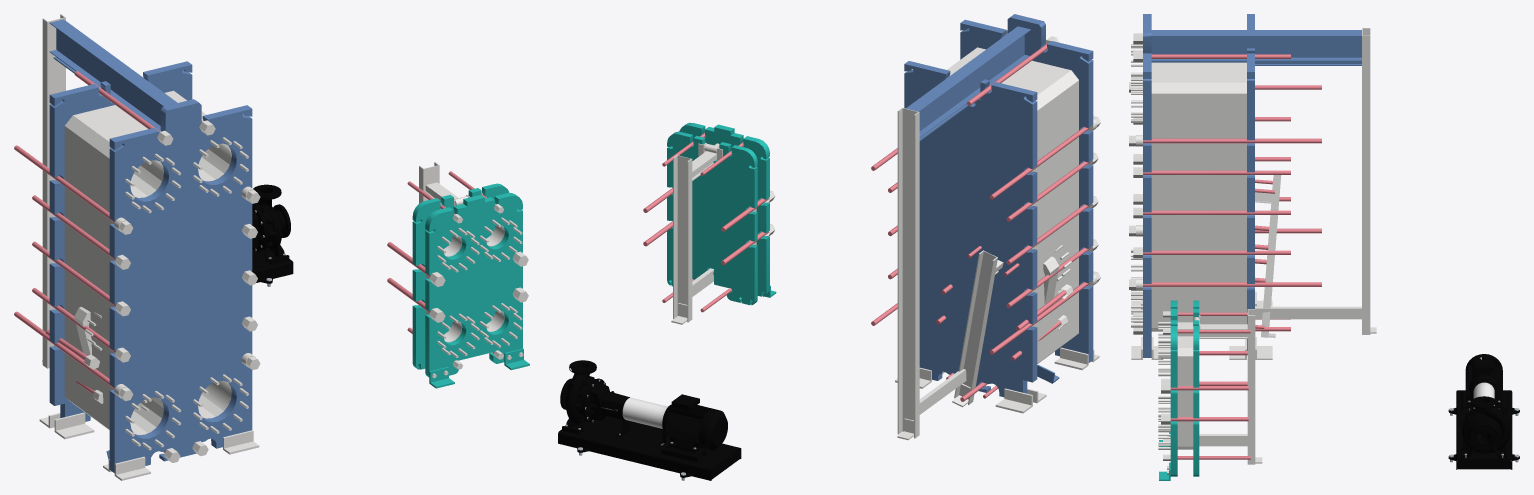
File: phe_hps.glb
3 renders of one model, left to right at view 1: azimuth 30°, elevation 25°; view 2: azimuth 150°, elevation 25°; view 3: azimuth 270°, elevation 25°, orthographic. The views are drawn at different scales.
Parts seen in each view (by area): view 1: L_39127440_bf9f_4af6_9c82_c5ece4f3a2be_I6, L_7ced0e6b_f229_4d24_871e_c41d6f81af1f_I9.002, L_e9d48f22_5316_43b5_afc6_7780e57c6915_I12.001, L_162bd5d2_1a15_4798_ba48_6523fc2de6e2_I3, L_50cd1da1_81e6_44b4_9e31_6da2080704c2_I7, L_ccf9d600_8c00_4b73_a1eb_30f42dfc8c7d_I12, L_79b6e457_47dd_421c_9863_9f8bab91f3a9_I8, L_7ced0e6b_f229_4d24_871e_c41d6f81af1f_I9.006, L_d1642e4c_9217_4d68_8968_5aba628788cd_I10.001, NK Compressor, L_09c1273f_e464_4b52_8421_eca2e06a58c5_I1, L_1fecafc4_1fc8_47f8_ad3e_4f73ab40b1cd_I5 (+9 smaller); view 2: L_162bd5d2_1a15_4798_ba48_6523fc2de6e2_I3, L_7ced0e6b_f229_4d24_871e_c41d6f81af1f_I9.002, L_d1642e4c_9217_4d68_8968_5aba628788cd_I10.001, L_ccf9d600_8c00_4b73_a1eb_30f42dfc8c7d_I12, L_39127440_bf9f_4af6_9c82_c5ece4f3a2be_I6, NK Compressor, NK Compressor.002, L_50cd1da1_81e6_44b4_9e31_6da2080704c2_I7, L_79b6e457_47dd_421c_9863_9f8bab91f3a9_I8, L_cf483972_d003_4aab_aed6_90ba52f9218b_I9.001, L_e9d48f22_5316_43b5_afc6_7780e57c6915_I12.001, L_cf483972_d003_4aab_aed6_90ba52f9218b_I9 (+6 smaller); view 3: L_7ced0e6b_f229_4d24_871e_c41d6f81af1f_I9.002, L_50cd1da1_81e6_44b4_9e31_6da2080704c2_I7, L_79b6e457_47dd_421c_9863_9f8bab91f3a9_I8, NK Compressor, L_39127440_bf9f_4af6_9c82_c5ece4f3a2be_I6, L_ccf9d600_8c00_4b73_a1eb_30f42dfc8c7d_I12, L_162bd5d2_1a15_4798_ba48_6523fc2de6e2_I3, L_41e68c2f_28a0_4f8d_8012_9302c0476280_I5.001, L_97ef5859_6e3f_4ea4_9c78_a85140712c03_I8.001, L_ac180195_f660_4e44_a276_c2dbd5b0f468_I11, L_cf483972_d003_4aab_aed6_90ba52f9218b_I9.001, L_e9d48f22_5316_43b5_afc6_7780e57c6915_I12.001 (+11 smaller).
Part boxes in pixels (bbox=[...]): L_39127440_bf9f_4af6_9c82_c5ece4f3a2be_I6: bbox=[109, 99, 252, 472]; L_7ced0e6b_f229_4d24_871e_c41d6f81af1f_I9.002: bbox=[64, 90, 231, 434]; L_e9d48f22_5316_43b5_afc6_7780e57c6915_I12.001: bbox=[425, 193, 522, 377]; L_162bd5d2_1a15_4798_ba48_6523fc2de6e2_I3: bbox=[49, 61, 192, 421]; L_50cd1da1_81e6_44b4_9e31_6da2080704c2_I7: bbox=[49, 19, 177, 131]; L_ccf9d600_8c00_4b73_a1eb_30f42dfc8c7d_I12: bbox=[42, 14, 65, 368]; L_79b6e457_47dd_421c_9863_9f8bab91f3a9_I8: bbox=[14, 71, 202, 452]; L_7ced0e6b_f229_4d24_871e_c41d6f81af1f_I9.006: bbox=[64, 120, 226, 434]; L_d1642e4c_9217_4d68_8968_5aba628788cd_I10.001: bbox=[412, 183, 509, 369]; NK Compressor: bbox=[252, 184, 293, 286]; L_09c1273f_e464_4b52_8421_eca2e06a58c5_I1: bbox=[114, 120, 260, 462]; L_1fecafc4_1fc8_47f8_ad3e_4f73ab40b1cd_I5: bbox=[125, 137, 248, 450]; L_162bd5d2_1a15_4798_ba48_6523fc2de6e2_I3: bbox=[904, 61, 1037, 397]; L_7ced0e6b_f229_4d24_871e_c41d6f81af1f_I9.002: bbox=[947, 47, 1078, 363]; L_d1642e4c_9217_4d68_8968_5aba628788cd_I10.001: bbox=[667, 131, 757, 305]; L_ccf9d600_8c00_4b73_a1eb_30f42dfc8c7d_I12: bbox=[897, 108, 919, 440]; L_39127440_bf9f_4af6_9c82_c5ece4f3a2be_I6: bbox=[960, 14, 1093, 362]; NK Compressor: bbox=[558, 360, 739, 480]; NK Compressor.002: bbox=[558, 361, 741, 480]; L_50cd1da1_81e6_44b4_9e31_6da2080704c2_I7: bbox=[906, 26, 1030, 141]; L_79b6e457_47dd_421c_9863_9f8bab91f3a9_I8: bbox=[871, 43, 1090, 401]; L_cf483972_d003_4aab_aed6_90ba52f9218b_I9.001: bbox=[671, 155, 692, 324]; L_e9d48f22_5316_43b5_afc6_7780e57c6915_I12.001: bbox=[679, 122, 769, 296]; L_cf483972_d003_4aab_aed6_90ba52f9218b_I9: bbox=[952, 250, 997, 407]; L_7ced0e6b_f229_4d24_871e_c41d6f81af1f_I9.002: bbox=[1151, 62, 1246, 331]; L_50cd1da1_81e6_44b4_9e31_6da2080704c2_I7: bbox=[1151, 30, 1361, 65]; L_79b6e457_47dd_421c_9863_9f8bab91f3a9_I8: bbox=[1143, 54, 1321, 331]; NK Compressor: bbox=[1448, 354, 1519, 469]; L_39127440_bf9f_4af6_9c82_c5ece4f3a2be_I6: bbox=[1143, 14, 1151, 357]; L_ccf9d600_8c00_4b73_a1eb_30f42dfc8c7d_I12: bbox=[1362, 28, 1376, 334]; L_162bd5d2_1a15_4798_ba48_6523fc2de6e2_I3: bbox=[1247, 14, 1254, 350]; L_41e68c2f_28a0_4f8d_8012_9302c0476280_I5.001: bbox=[1170, 312, 1250, 459]; L_97ef5859_6e3f_4ea4_9c78_a85140712c03_I8.001: bbox=[1177, 322, 1193, 449]; L_ac180195_f660_4e44_a276_c2dbd5b0f468_I11: bbox=[1255, 306, 1361, 319]; L_cf483972_d003_4aab_aed6_90ba52f9218b_I9.001: bbox=[1247, 309, 1262, 464]; L_e9d48f22_5316_43b5_afc6_7780e57c6915_I12.001: bbox=[1170, 300, 1177, 476].
Size of the model in its own units: 3.64 by 3.06 by 3.34.
52 materials, 4 textured.
